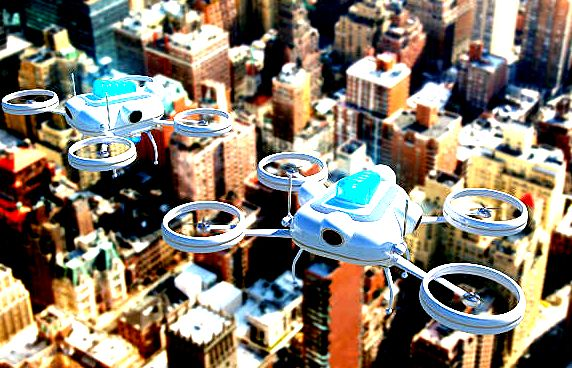Drone: (160, 150, 530, 335), (1, 70, 234, 173)
